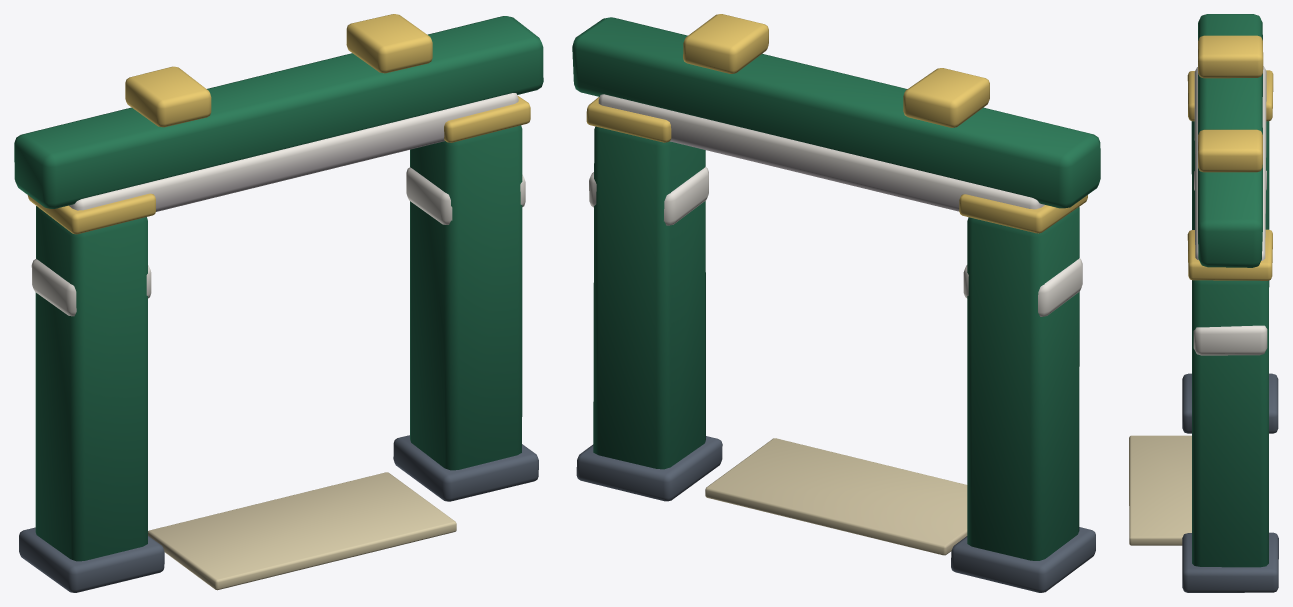
3 views of the same model, side by side, from view 1: azimuth 30°, elevation 25°; view 2: azimuth 150°, elevation 25°; view 3: azimuth 270°, elevation 25° (orthographic). The views are drawn at different scales.
Visible parts, largest first — view 1: gate_16b18bb9; view 2: gate_16b18bb9; view 3: gate_16b18bb9.
Boxes of the visible parts, x1=… form: gate_16b18bb9: x1=14, y1=14, x2=543, y2=592; gate_16b18bb9: x1=572, y1=14, x2=1100, y2=592; gate_16b18bb9: x1=1129, y1=14, x2=1278, y2=592.
Size of the model in its own units: 4.97 by 4.4 by 1.48.
